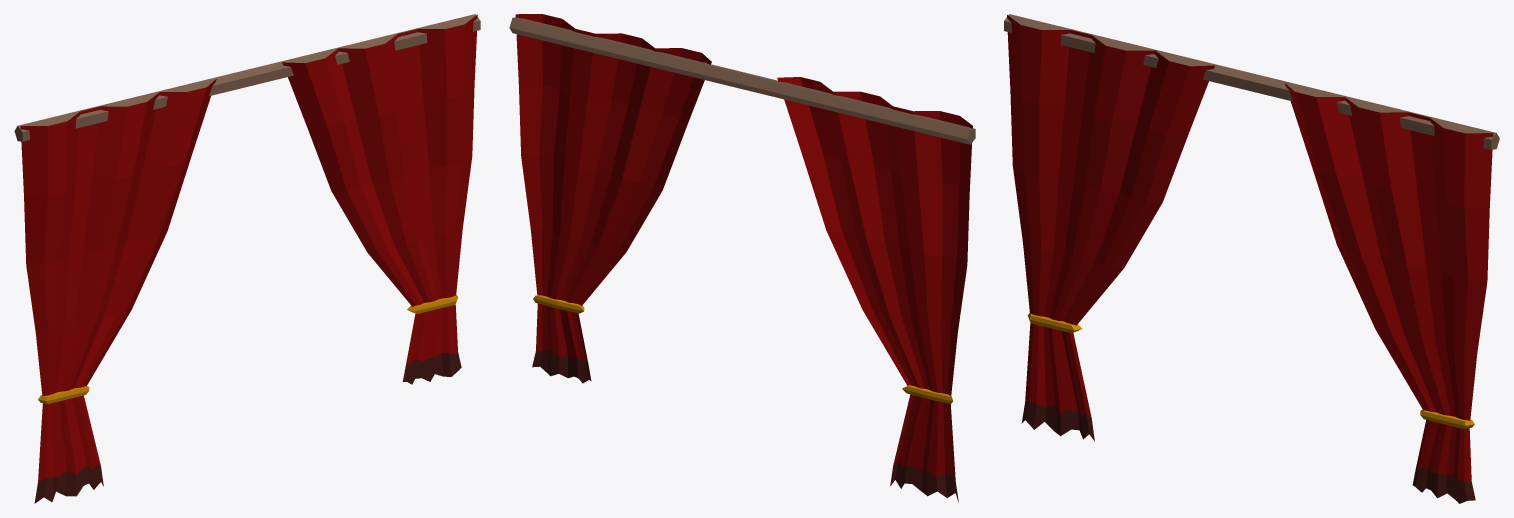
File: BurntCurtain.fbx
3 views of the same model, side by side, from view 1: azimuth 30°, elevation 25°; view 2: azimuth 150°, elevation 25°; view 3: azimuth 330°, elevation 25° (orthographic). The views are drawn at different scales.
Visible parts, largest first — view 1: BurntCurtains; view 2: BurntCurtains; view 3: BurntCurtains.
Boxes of the visible parts, <box> form: BurntCurtains: <box>14,14,480,503</box>; BurntCurtains: <box>509,14,975,502</box>; BurntCurtains: <box>1004,14,1499,503</box>.
Bounding box in the file's own units: 250 × 199 × 12.02.
